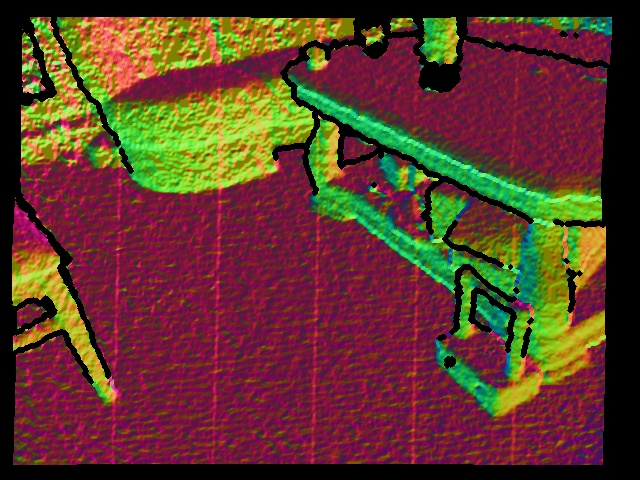station: (435, 265, 549, 418)
